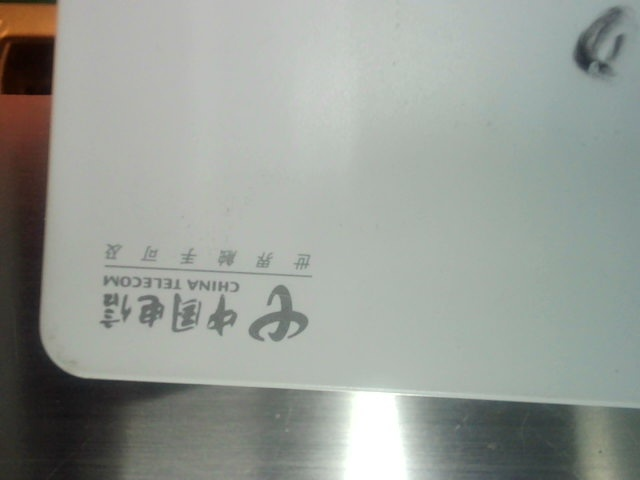AB_ChinaTelecom: (93, 233, 329, 347)
